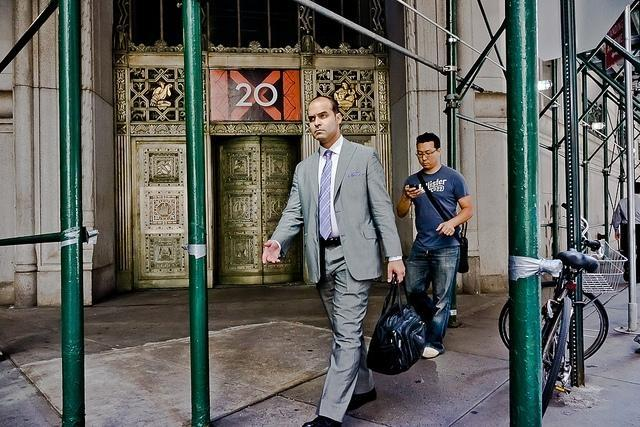bicycle: (544, 247, 600, 415)
